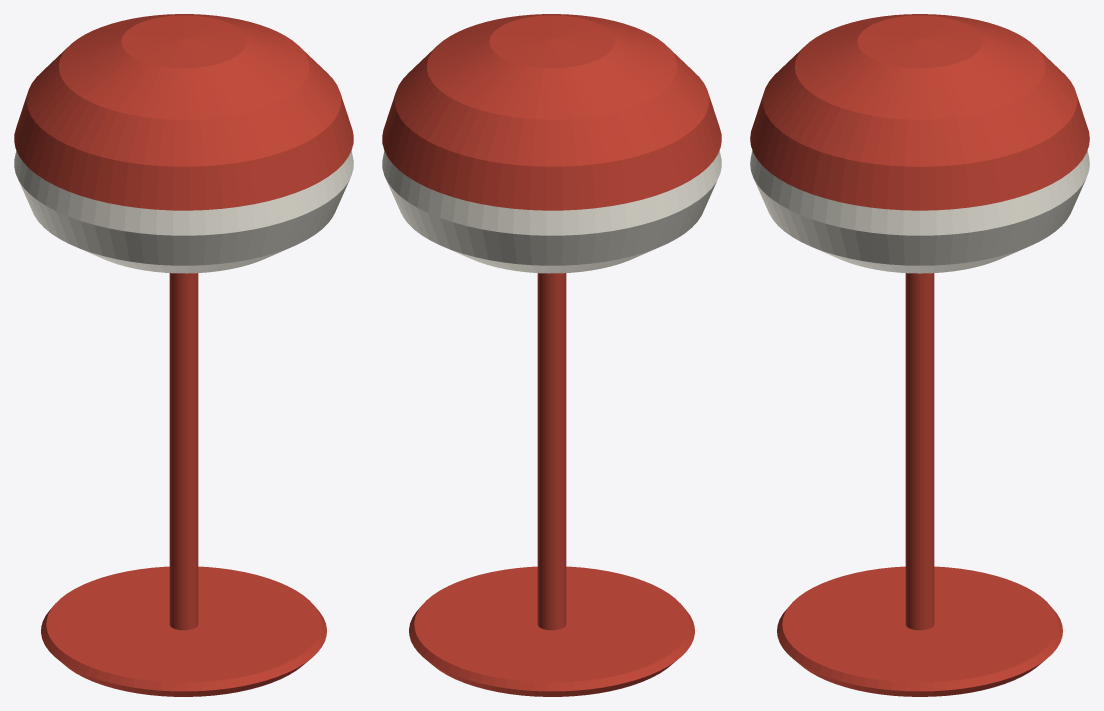
Rendered from blasverk.glb.
The picture shows the model from 3 angles, left to right: view 1: azimuth 30°, elevation 25°; view 2: azimuth 150°, elevation 25°; view 3: azimuth 270°, elevation 25°; orthographic projection.
Parts seen in each view (by area): view 1: blasverk; view 2: blasverk; view 3: blasverk.
Part boxes in pixels (left/top/right/bottom): blasverk: left=14, top=14, right=353, bottom=696; blasverk: left=382, top=14, right=721, bottom=696; blasverk: left=750, top=14, right=1089, bottom=696.
Size of the model in its own units: 0.19 by 0.3718 by 0.19.
